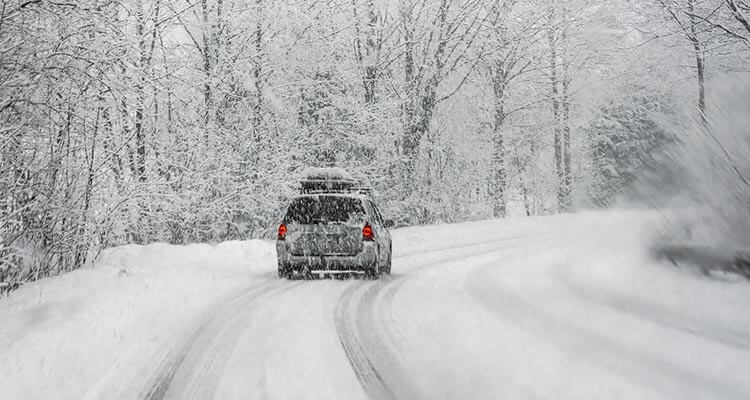car: (277, 177, 394, 281)
